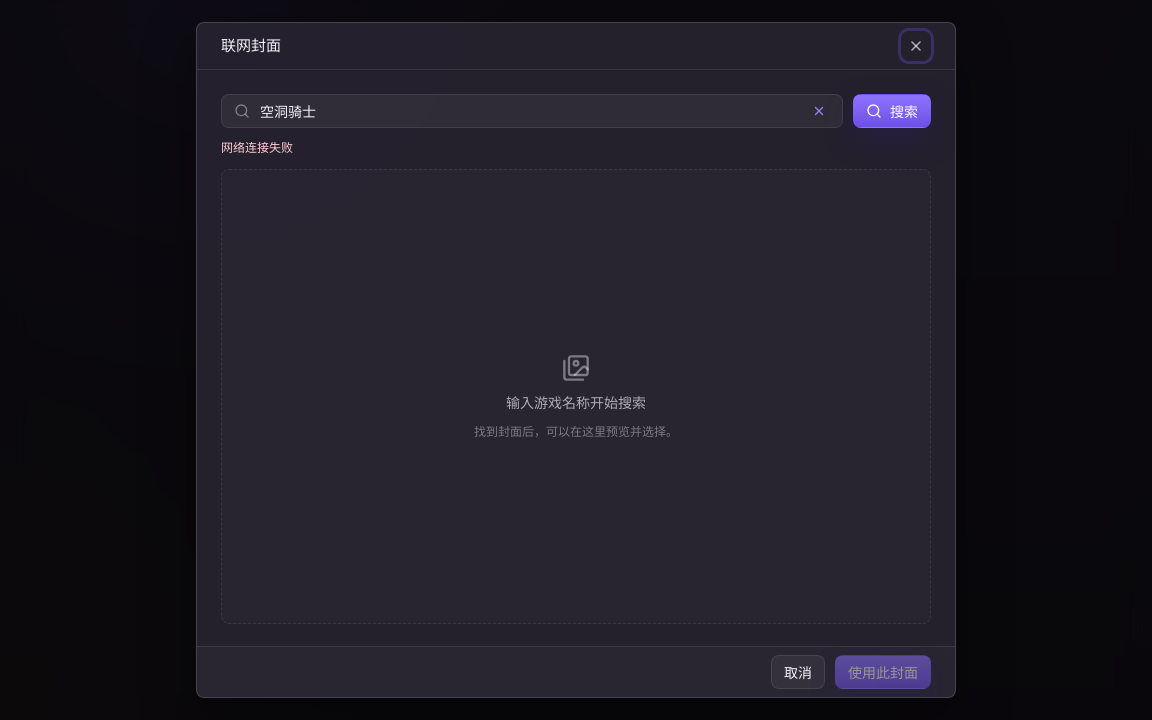
it: onlineCoverDialog › shows a search error and displays candidates after a successful retry
Expected: the dialog shows "网络连接失败", [221,140,293,155]
Click the submit button at (892, 111), box [853,94,931,128]
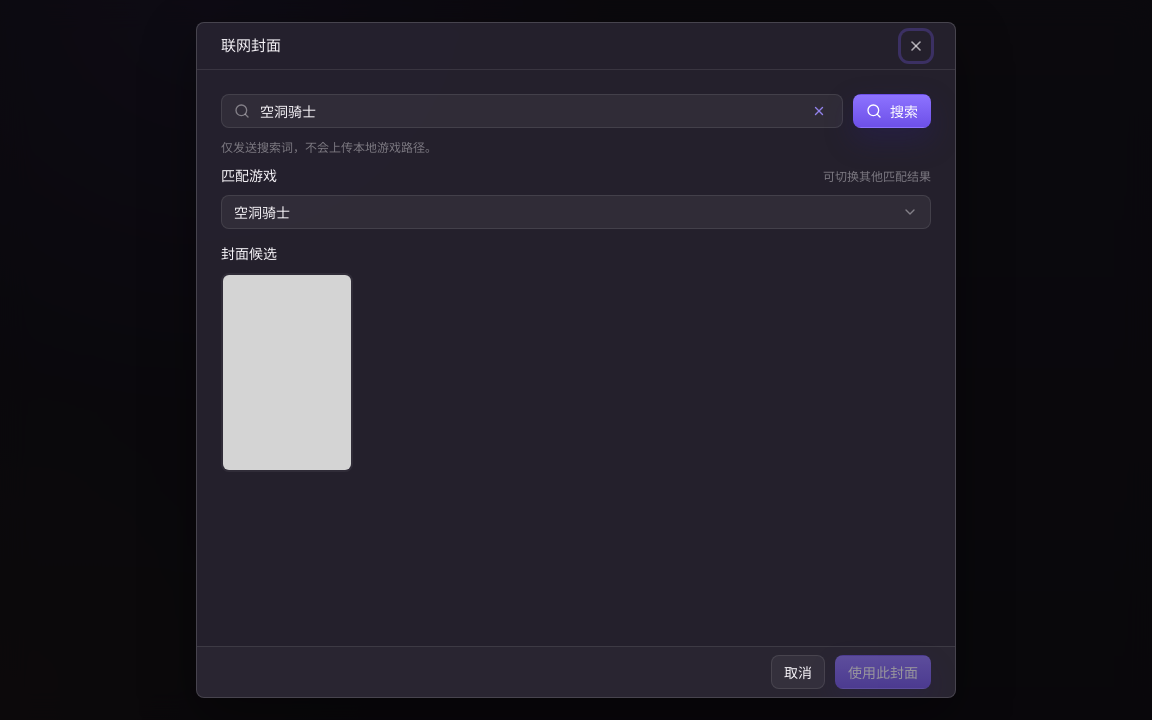
Expected: the text "网络连接失败" is gone
